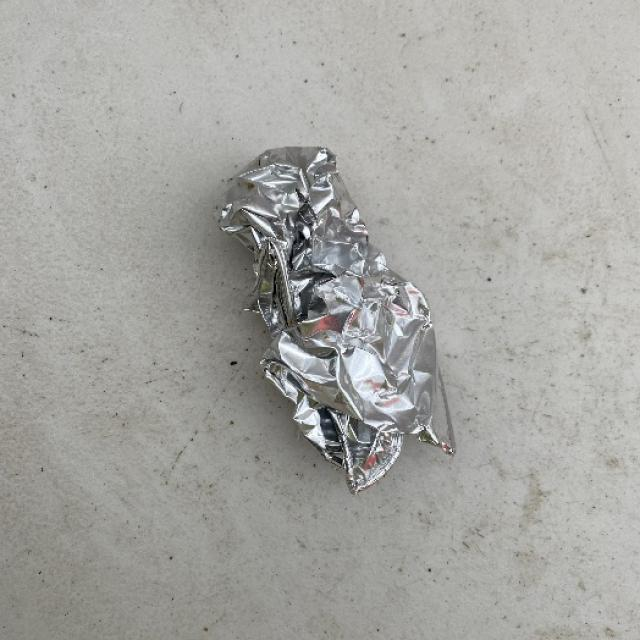metal: (218, 144, 456, 494)
